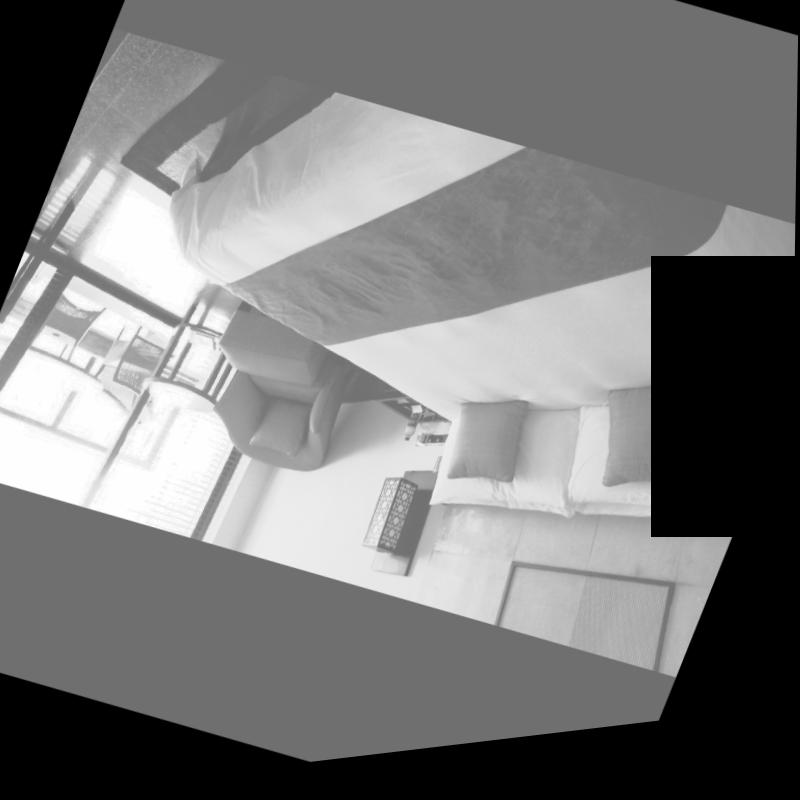pillow: (534, 339, 788, 589), (419, 368, 620, 573), (572, 361, 743, 539), (427, 389, 539, 519)
